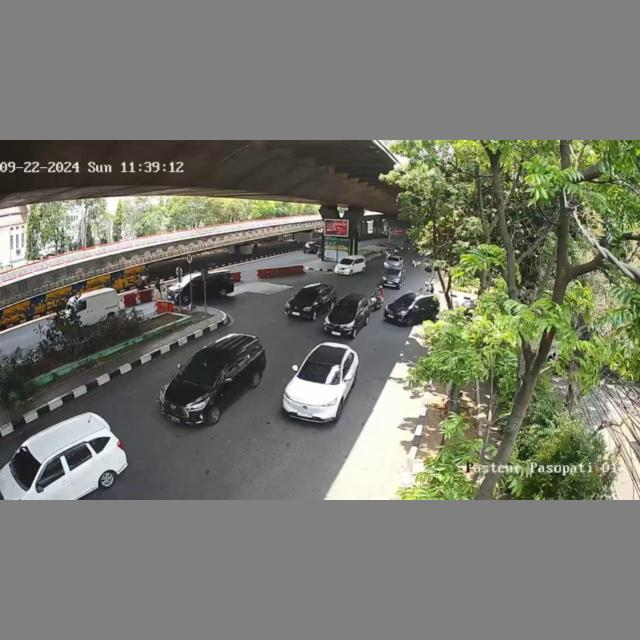windshield: (179, 356, 226, 388), (296, 358, 343, 385), (332, 303, 357, 315), (296, 289, 319, 300), (384, 268, 402, 276), (340, 259, 354, 265)
